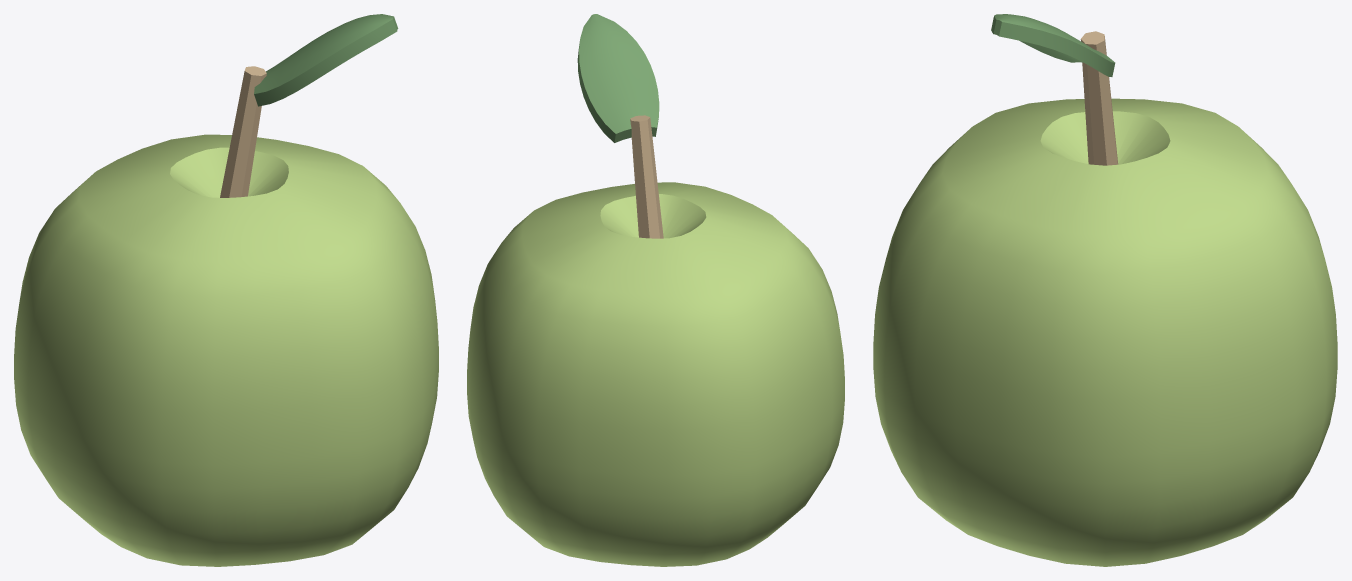
The model's file is fresh-produce-and-groceries-apple-green-8d3c66b4__24346.glb.
The picture shows the model from 3 angles, left to right: view 1: azimuth 30°, elevation 25°; view 2: azimuth 150°, elevation 25°; view 3: azimuth 270°, elevation 25°; orthographic projection. The views are drawn at different scales.
Visible parts, largest first — view 1: apple-green; view 2: apple-green; view 3: apple-green.
Boxes of the visible parts, bbox=[...] form: apple-green: bbox=[14, 14, 438, 566]; apple-green: bbox=[467, 14, 844, 566]; apple-green: bbox=[873, 14, 1337, 566].
Size of the model in its own units: 0.076 by 0.1023 by 0.0766.
